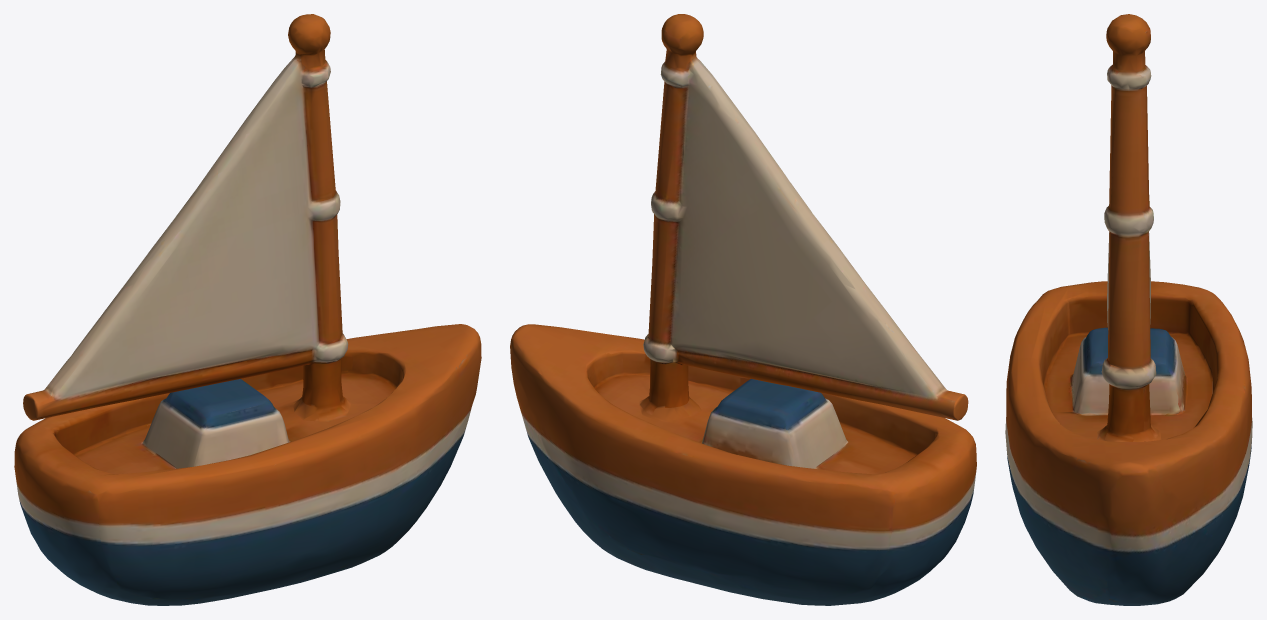
Rendered from sailboat.glb.
3 renders of one model, left to right at view 1: azimuth 30°, elevation 25°; view 2: azimuth 150°, elevation 25°; view 3: azimuth 270°, elevation 25°, orthographic. The views are drawn at different scales.
Visible parts, largest first — view 1: textured_mesh.obj; view 2: textured_mesh.obj; view 3: textured_mesh.obj.
Boxes of the visible parts, x1,y1,x2,y2 form: textured_mesh.obj: (14,14,481,605); textured_mesh.obj: (510,14,976,605); textured_mesh.obj: (1005,14,1252,605).
Bounding box in the file's own units: 0.8654 × 0.9991 × 0.3971.
Materials: 1 (1 with a texture image).
